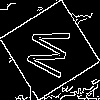W: (25, 25, 80, 81)
